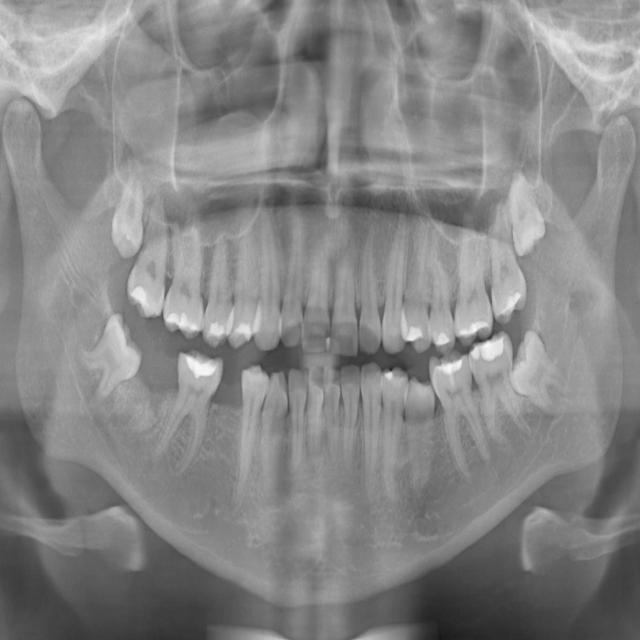3M ESPE Implant: (106, 146, 153, 263)
AGS Medikal Implant: (463, 326, 539, 454)
AMerOss Implant: (422, 344, 497, 492)
Amalgam filling: (122, 186, 178, 323)
Anthogyr Implant: (400, 373, 437, 509)
Bicon Implant: (373, 363, 411, 511)
BioHorizons Implant: (362, 361, 383, 504)
BioLife Implant: (341, 363, 360, 472)
Biomet 3i Implant: (323, 363, 343, 468)
Blue Sky Bio Implant: (306, 364, 324, 475)
Camlog Implant: (286, 366, 308, 479)
Caries: (359, 208, 381, 357)
Composite filling: (253, 367, 293, 503)
Cowellmedi Implant: (228, 359, 269, 521)
DENTSPLY Implant: (161, 214, 208, 342)
Dentatus Implant: (144, 343, 229, 486)
Dentium Implant: (50, 306, 161, 413)
Euroteknika Implant: (200, 217, 240, 351)
Filling: (228, 207, 265, 353)
Frontier Implant: (253, 194, 285, 354)
Hiossen Implant: (381, 182, 409, 357)
Implant: (299, 225, 344, 358)
Implant Direct: (280, 190, 307, 350)
Keystone Dental Implant: (331, 236, 358, 358)
MIS Implant: (402, 202, 432, 355)
Mandible: (422, 233, 457, 355)
Maxilla: (434, 205, 498, 350)
Megagen Implant: (475, 195, 534, 328)
Neodent Implant: (507, 165, 549, 261)
Neoss Implant: (550, 388, 550, 389)
